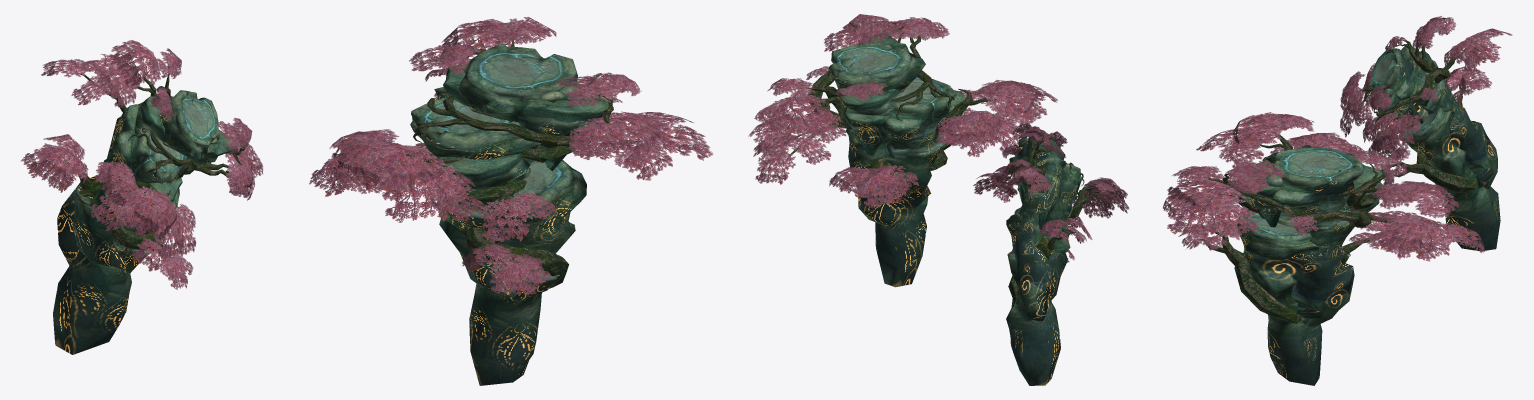
File: all_stone_mountain.glb
3 renders of one model, left to right at view 1: azimuth 30°, elevation 25°; view 2: azimuth 150°, elevation 25°; view 3: azimuth 270°, elevation 25°, orthographic. The views are drawn at different scales.
Visible parts, largest first — view 1: Stone_mountain, Stone_mountain.001; view 2: Stone_mountain, Stone_mountain.001; view 3: Stone_mountain, Stone_mountain.001.
Part boxes in pixels (x1,y1,x2,y2): Stone_mountain: (309,17,713,385); Stone_mountain.001: (21,40,263,354); Stone_mountain: (749,14,1057,287); Stone_mountain.001: (973,123,1129,385); Stone_mountain: (1163,112,1485,385); Stone_mountain.001: (1340,16,1512,250).
Size of what is drawn, in the model's own units: 22.12 by 13.66 by 17.08.
3 materials, 3 textured.
